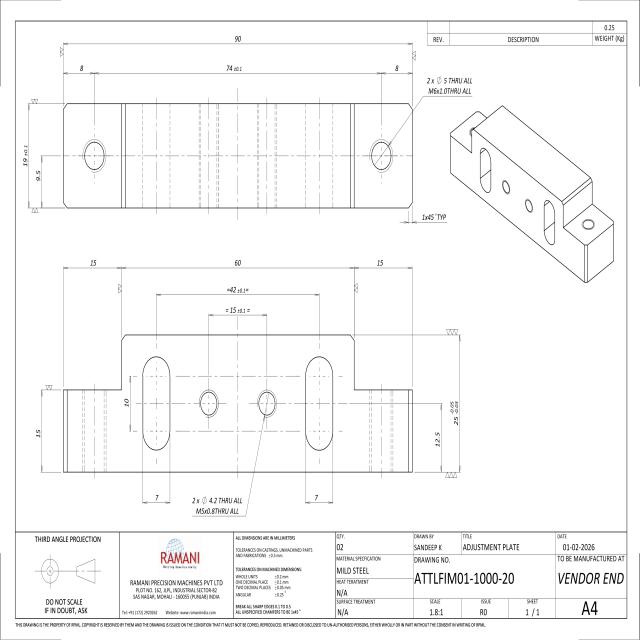dimension: (426, 75, 474, 97), (192, 495, 244, 515), (448, 400, 459, 427), (420, 212, 448, 222), (226, 285, 250, 295), (225, 306, 251, 314), (22, 144, 29, 168), (226, 64, 243, 72), (434, 430, 441, 449), (35, 168, 42, 182), (89, 258, 98, 267), (234, 258, 242, 267), (376, 258, 385, 266), (123, 396, 129, 408), (35, 428, 41, 440), (234, 35, 242, 43), (154, 493, 160, 502), (79, 64, 85, 72), (314, 493, 319, 502), (395, 64, 400, 72)
